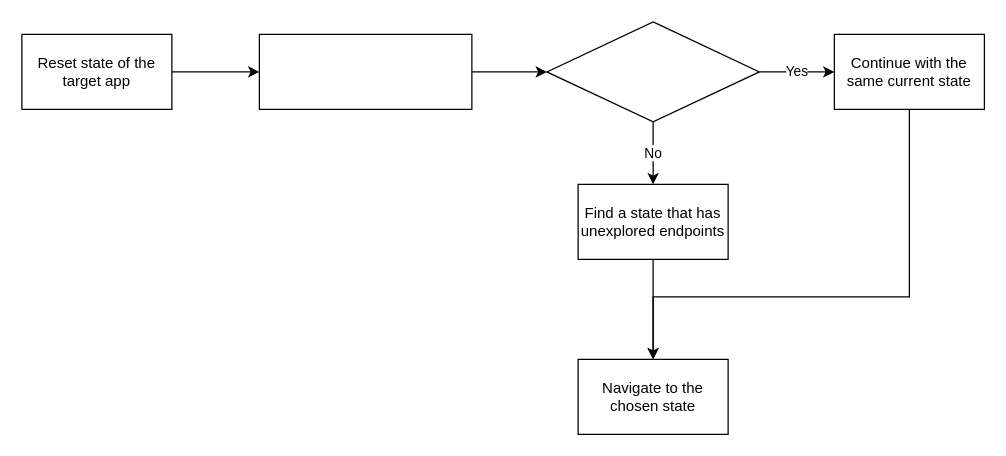
Image size: 1006x456. Some labels were removed from this diagram. The centre of each missing label's shape, as x and y in pixels:
Get the count of unexplored endpoints in the current tate: [365,71]
Unexplored endpoints available?: [652,71]
